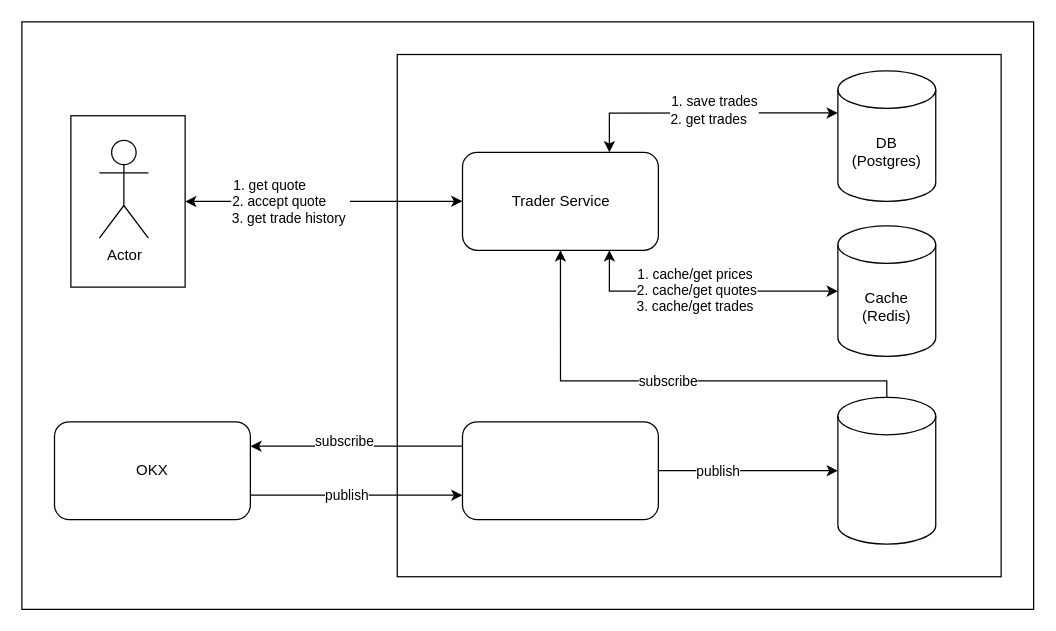
Some shapes in this 1056 by 631 pixel diagram are drawn without their labels. Each missing label, with the centre of its shape:
Market Data Service: point 559,470
Message Broker (NATS): point 886,470
